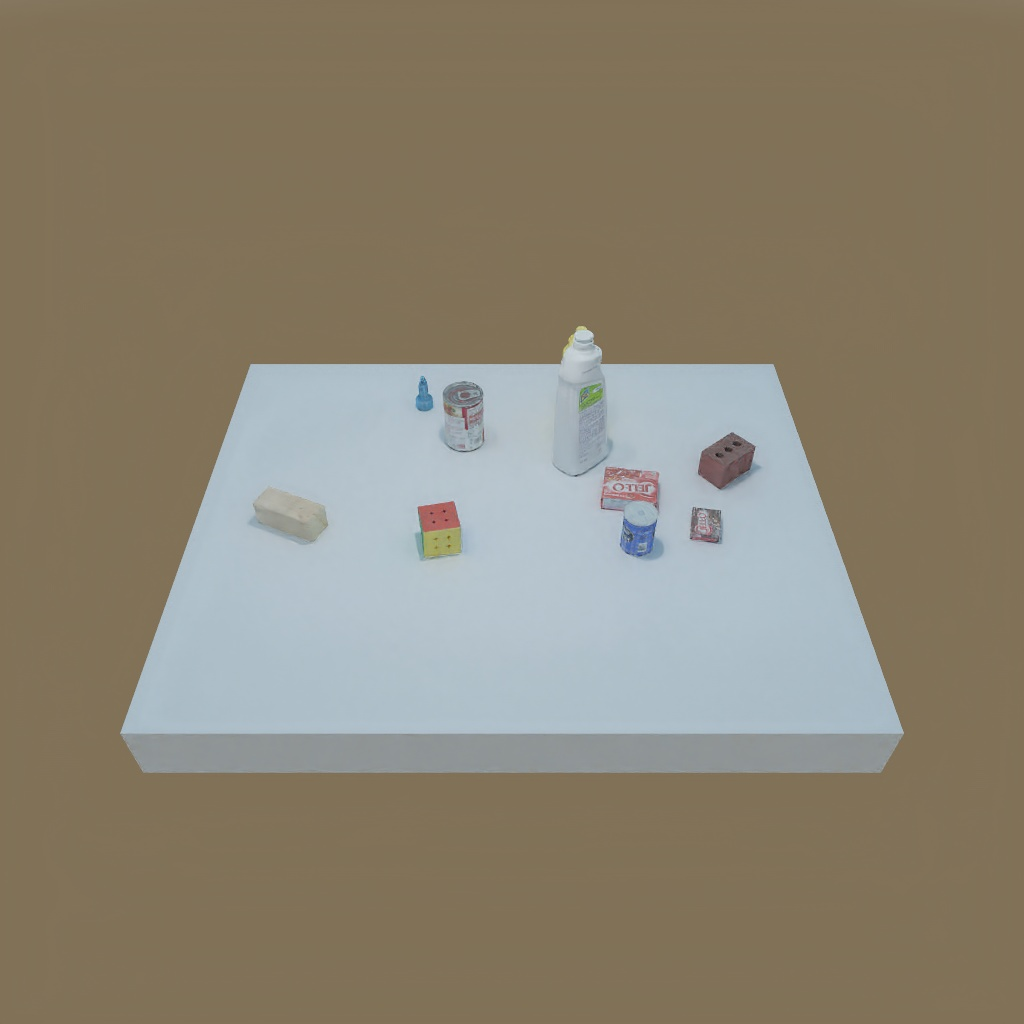gelatin_box: (603, 464, 663, 517)
master_chef_can: (614, 502, 664, 564)
pudding_box: (687, 504, 724, 547)
rubiks_cube: (415, 497, 465, 562)
tomato_soup_can: (437, 378, 491, 451)
wood_block: (249, 486, 334, 542)
